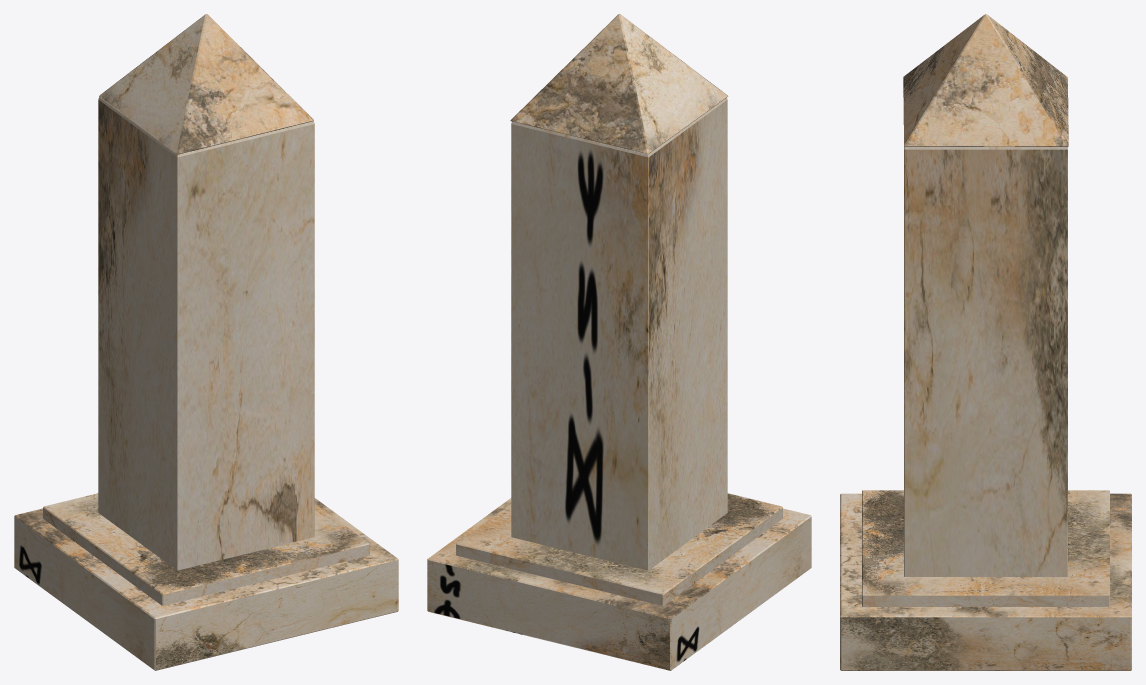
File: obelisk.fbx
3 views of the same model, side by side, from view 1: azimuth 30°, elevation 25°; view 2: azimuth 150°, elevation 25°; view 3: azimuth 270°, elevation 25° (orthographic). The views are drawn at different scales.
Parts seen in each view (by area): view 1: Cube.003, Cube, Cone, Cube.002; view 2: Cube.003, Cube, Cone, Cube.002; view 3: Cube.003, Cube, Cone, Cube.002.
Boxes of the visible parts, x1,y1,x2,y2 form: Cube.003: (98, 97, 314, 570); Cube: (14, 498, 398, 670); Cone: (99, 14, 313, 154); Cube.002: (43, 493, 369, 605); Cube.003: (511, 97, 727, 570); Cube: (427, 498, 811, 670); Cone: (510, 14, 727, 154); Cube.002: (456, 493, 782, 605); Cube.003: (904, 146, 1067, 576); Cube: (840, 493, 1131, 670); Cone: (903, 14, 1068, 146); Cube.002: (862, 490, 1109, 606).
Bounding box in the file's own units: 240 × 540 × 240.
